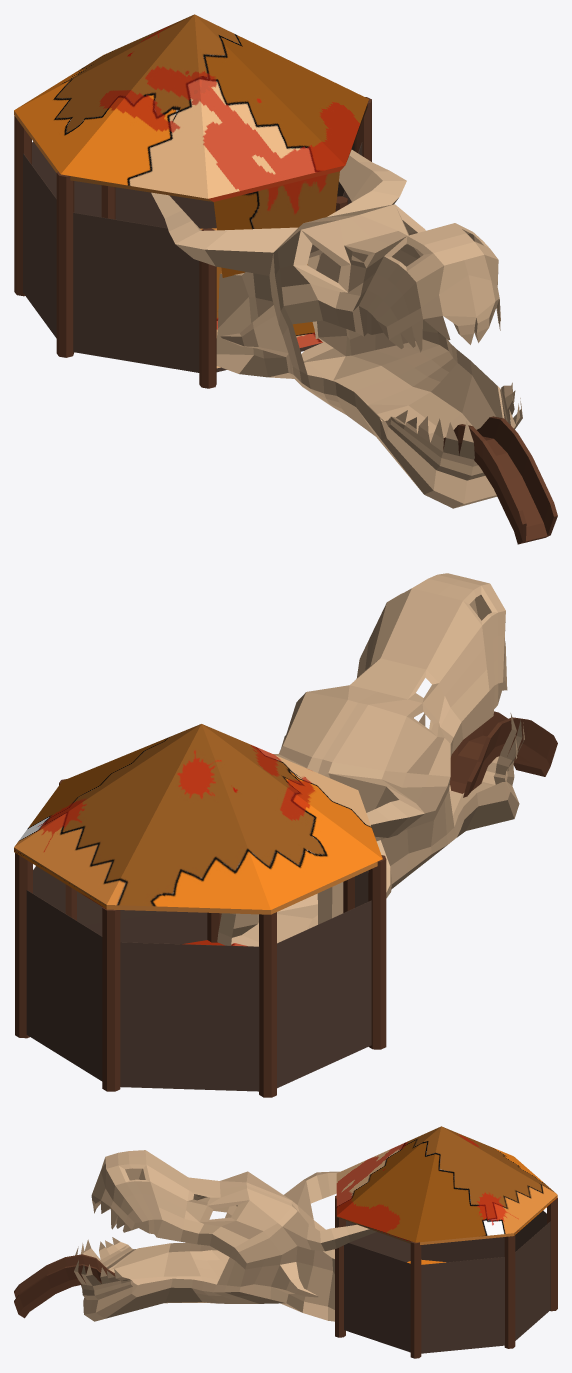
The model's file is Tent Boss Orc.fbx.
The picture shows the model from 3 angles, top to bottom: view 1: azimuth 30°, elevation 25°; view 2: azimuth 150°, elevation 25°; view 3: azimuth 270°, elevation 25°; orthographic projection. The views are drawn at different scales.
Visible parts, largest first — view 1: Head, Tetto, Pareti, Pilastri, Cube; view 2: Pareti, Tetto, Head, Pilastri, Cube; view 3: Head, Pareti, Tetto, Pilastri, Cube.
Boxes of the visible parts, x1=… form: Head: x1=151, y1=149, x2=522, y2=508; Tetto: x1=14, y1=14, x2=368, y2=277; Pareti: x1=23, y1=141, x2=362, y2=372; Pilastri: x1=14, y1=97, x2=371, y2=388; Cube: x1=443, y1=416, x2=557, y2=544; Pareti: x1=26, y1=866, x2=371, y2=1091; Tetto: x1=14, y1=724, x2=382, y2=914; Head: x1=217, y1=573, x2=524, y2=946; Pilastri: x1=15, y1=779, x2=386, y2=1097; Cube: x1=449, y1=711, x2=557, y2=797; Head: x1=74, y1=1150, x2=376, y2=1321; Pareti: x1=344, y1=1210, x2=550, y2=1353; Tetto: x1=336, y1=1126, x2=557, y2=1244; Pilastri: x1=335, y1=1195, x2=557, y2=1358; Cube: x1=14, y1=1254, x2=115, y2=1318.
Size of the model in its own units: 2578 by 2334 by 6093.
